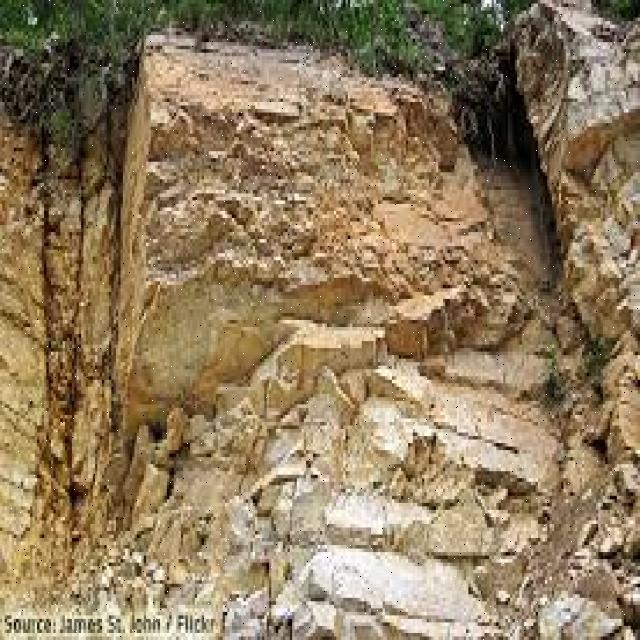Metamorphic: (2, 3, 626, 570)
